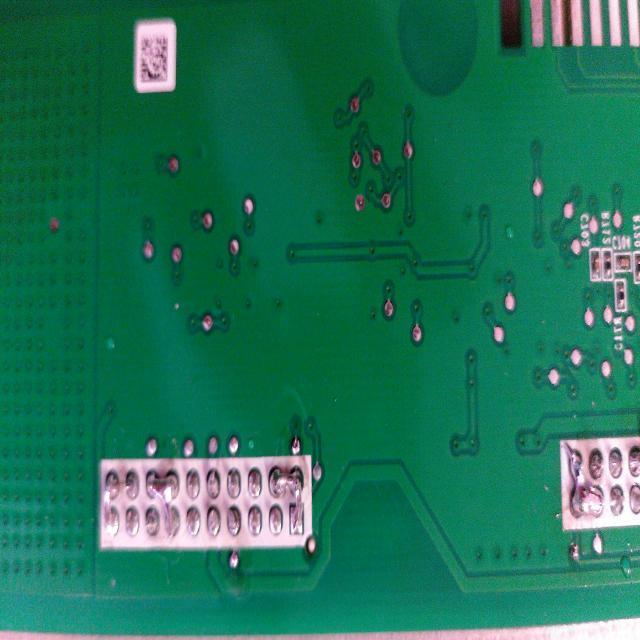Soldering bridge: (269, 460, 309, 538), (569, 444, 605, 522), (147, 470, 178, 537), (101, 478, 120, 540)
